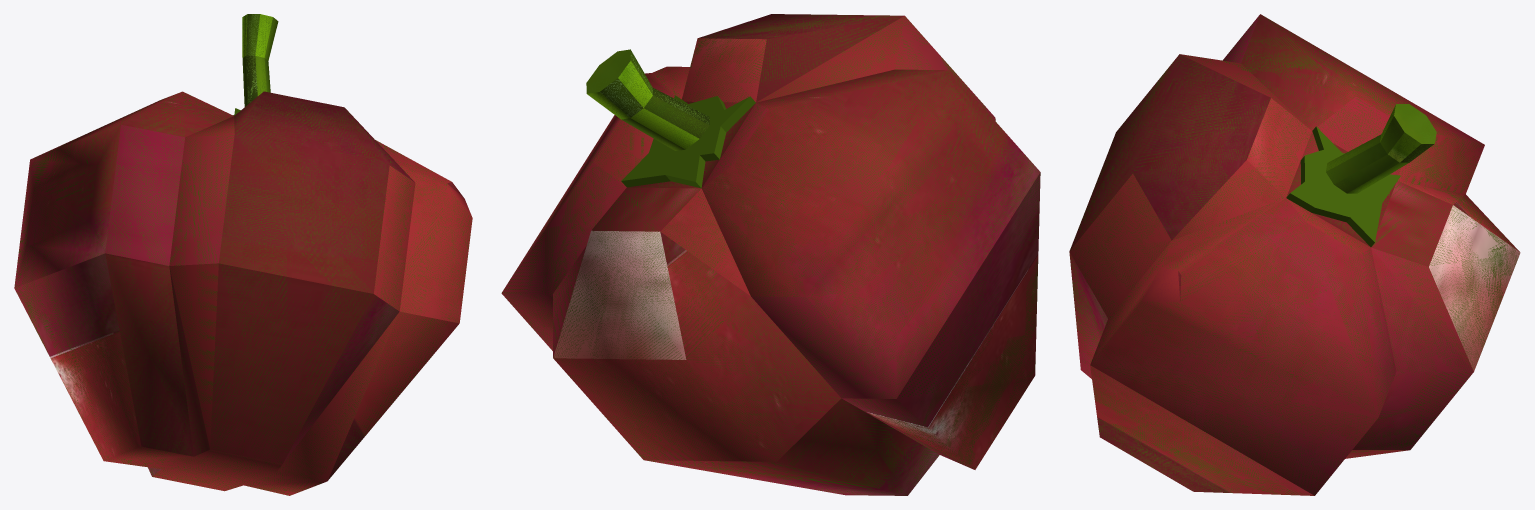
File: red_pepper.dae
The picture shows the model from 3 angles, left to right: view 1: azimuth 30°, elevation 25°; view 2: azimuth 150°, elevation 25°; view 3: azimuth 270°, elevation 25°; orthographic projection. The views are drawn at different scales.
Parts seen in each view (by area): view 1: Component_20 (×2); view 2: Component_20 (×4); view 3: Component_20 (×5).
Part boxes in pixels (<box>): Component_20 (×2): <box>14,14,472,495</box>; Component_20 (×4): <box>501,14,1040,495</box>; Component_20 (×5): <box>1069,14,1520,495</box>.
Bounding box in the file's own units: 3.49 × 3.52 × 3.65.
Materials: 5 (4 with a texture image).
